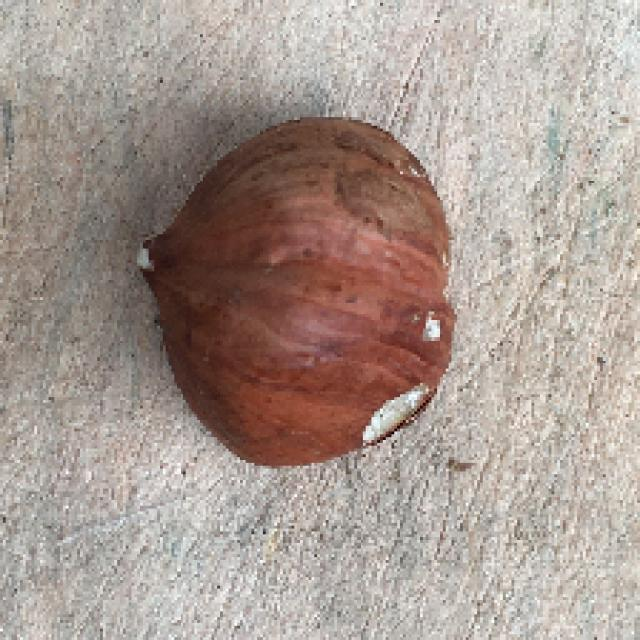hazelnut: (106, 100, 473, 486)
